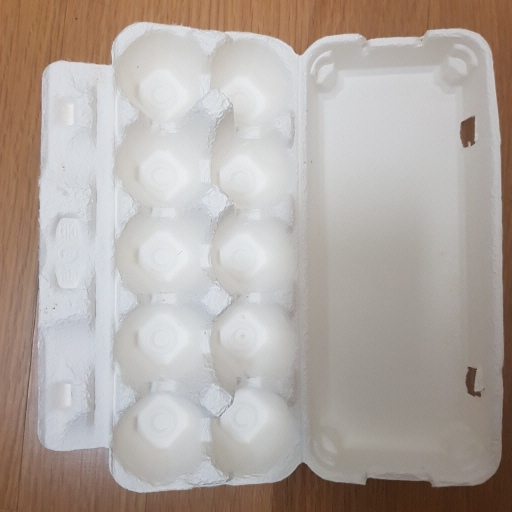Paper_0: (33, 18, 512, 490)
